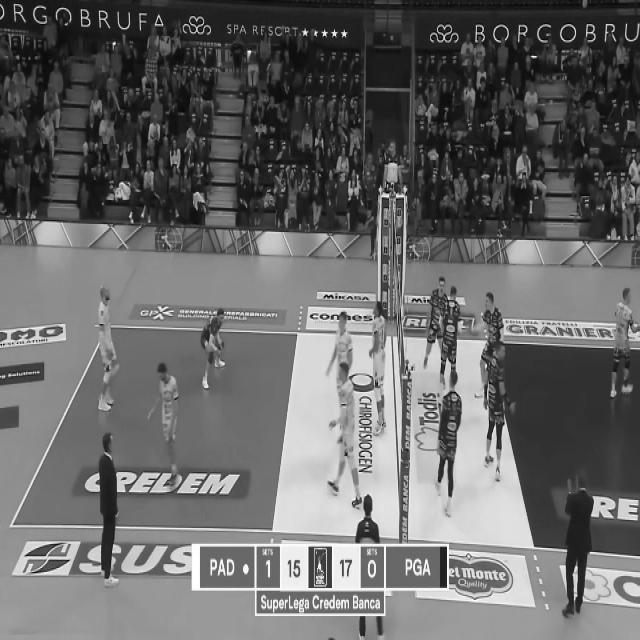volleyball court: (6, 321, 638, 552)
